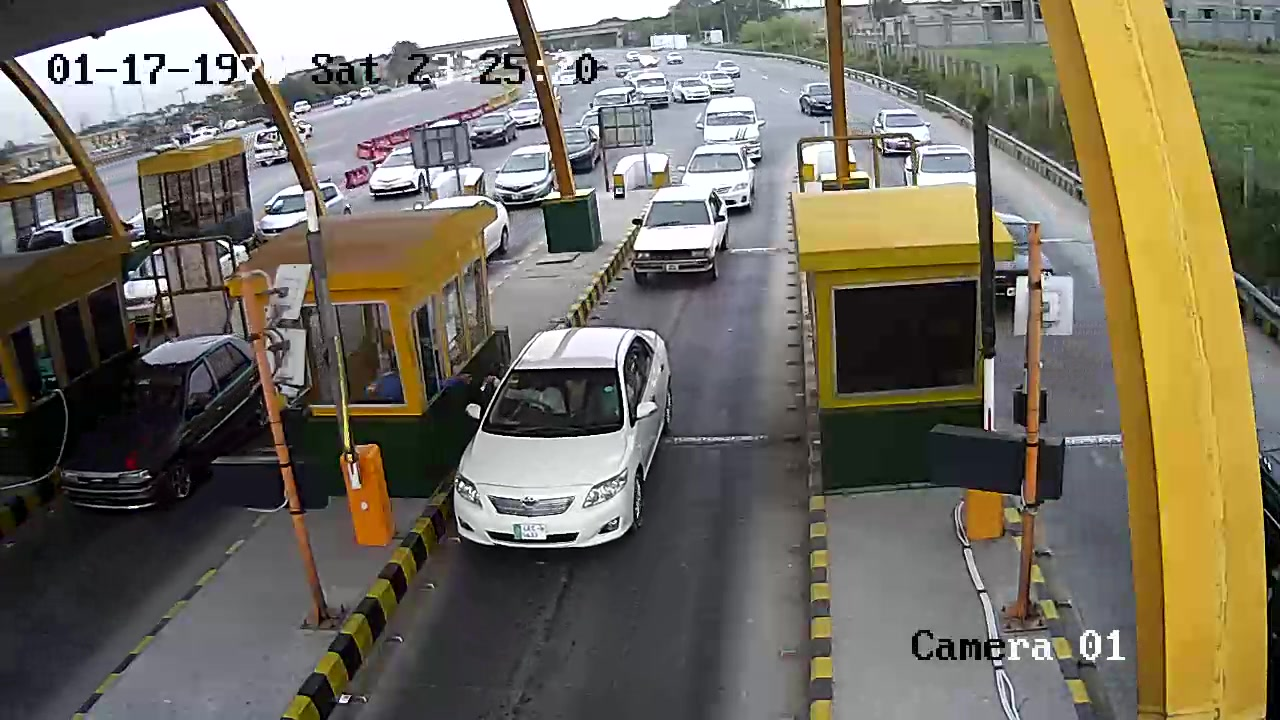F1: (451, 317, 683, 567), (627, 180, 738, 288)
